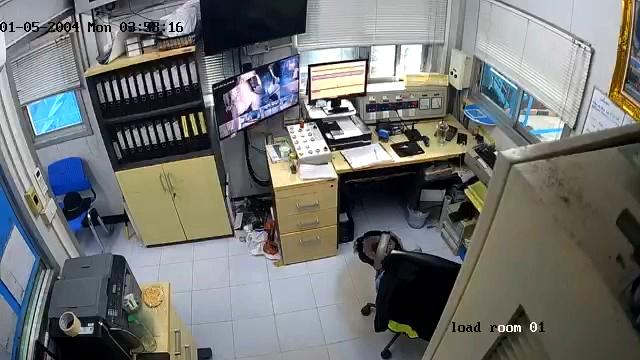Phone: (457, 132, 468, 145)
